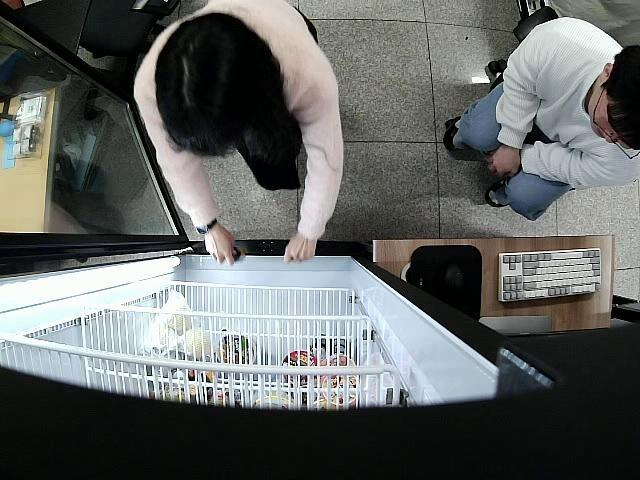17_vita500: (230, 246, 247, 262)
